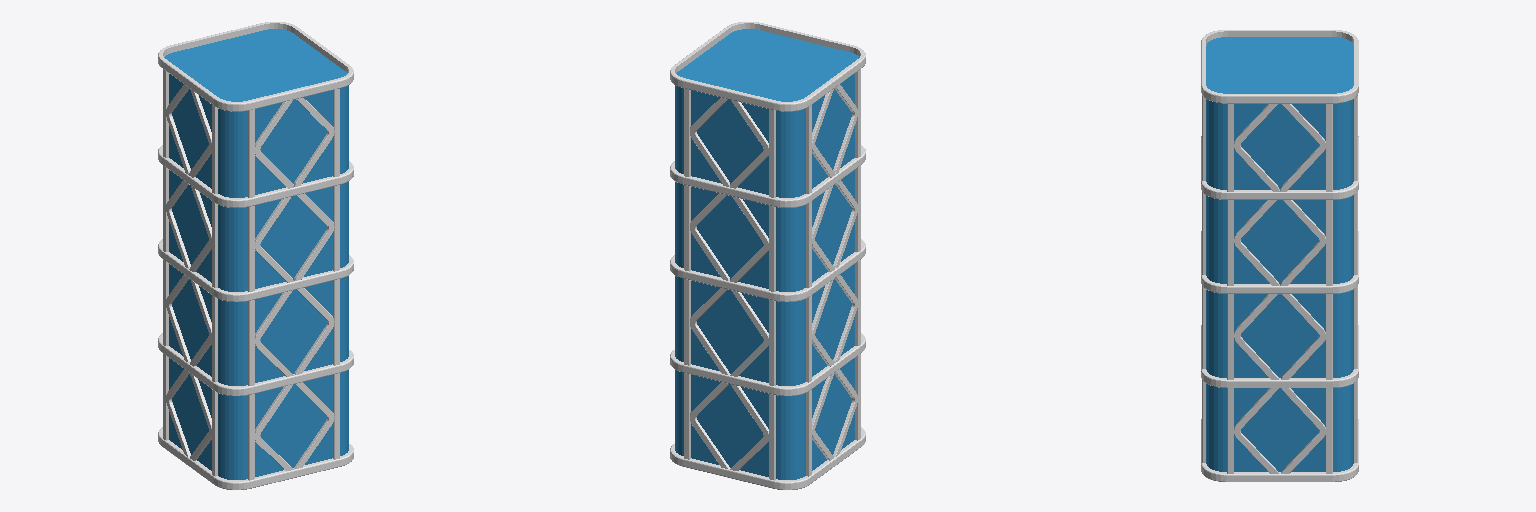
File: HouseRoundedCorners.obj
3 renders of one model, left to right at view 1: azimuth 30°, elevation 25°; view 2: azimuth 150°, elevation 25°; view 3: azimuth 270°, elevation 25°, orthographic.
Visible parts, largest first — view 1: Rectangle309, Rectangle314, Line043, Line034, Line047, Line042, Line041, Line046, Rectangle312, Rectangle311, Rectangle310, Rectangle313 (+2 smaller); view 2: Rectangle309, Rectangle314, Line039, Line040, Line046, Line045, Line036, Line047, Rectangle312, Rectangle311, Rectangle313, Rectangle310 (+2 smaller); view 3: Rectangle309, Line035, Line044, Rectangle314, Line037, Line038, Rectangle312, Rectangle310, Rectangle311, Rectangle313, Line036, Line041.
Boxes of the visible parts, <box> form: Rectangle309: <box>164,29,348,479</box>; Rectangle314: <box>158,22,353,111</box>; Line043: <box>294,98,334,468</box>; Line034: <box>255,100,293,470</box>; Line047: <box>166,84,190,456</box>; Line042: <box>248,109,254,480</box>; Line041: <box>333,89,339,459</box>; Line046: <box>189,89,211,460</box>; Rectangle312: <box>158,145,353,207</box>; Rectangle311: <box>158,239,353,301</box>; Rectangle310: <box>158,333,353,395</box>; Rectangle313: <box>158,427,353,489</box>; Rectangle309: <box>675,29,859,479</box>; Rectangle314: <box>670,22,865,111</box>; Line039: <box>690,98,729,468</box>; Line040: <box>730,100,768,470</box>; Line046: <box>833,84,857,456</box>; Line045: <box>769,109,775,480</box>; Line036: <box>684,89,690,459</box>; Line047: <box>812,89,834,460</box>; Rectangle312: <box>670,145,865,207</box>; Rectangle311: <box>670,239,865,301</box>; Rectangle313: <box>670,427,865,489</box>; Rectangle310: <box>670,333,865,395</box>; Rectangle309: <box>1206,37,1353,471</box>; Line035: <box>1234,104,1279,473</box>; Line044: <box>1280,104,1325,473</box>; Rectangle314: <box>1201,30,1358,103</box>; Line037: <box>1326,104,1332,473</box>; Line038: <box>1227,104,1233,473</box>; Rectangle312: <box>1201,136,1358,199</box>; Rectangle310: <box>1201,325,1358,387</box>; Rectangle311: <box>1201,231,1358,293</box>; Rectangle313: <box>1201,419,1358,481</box>; Line036: <box>1354,96,1357,462</box>; Line041: <box>1202,96,1205,462</box>.
Size of the model in its own units: 6 by 16.24 by 6.